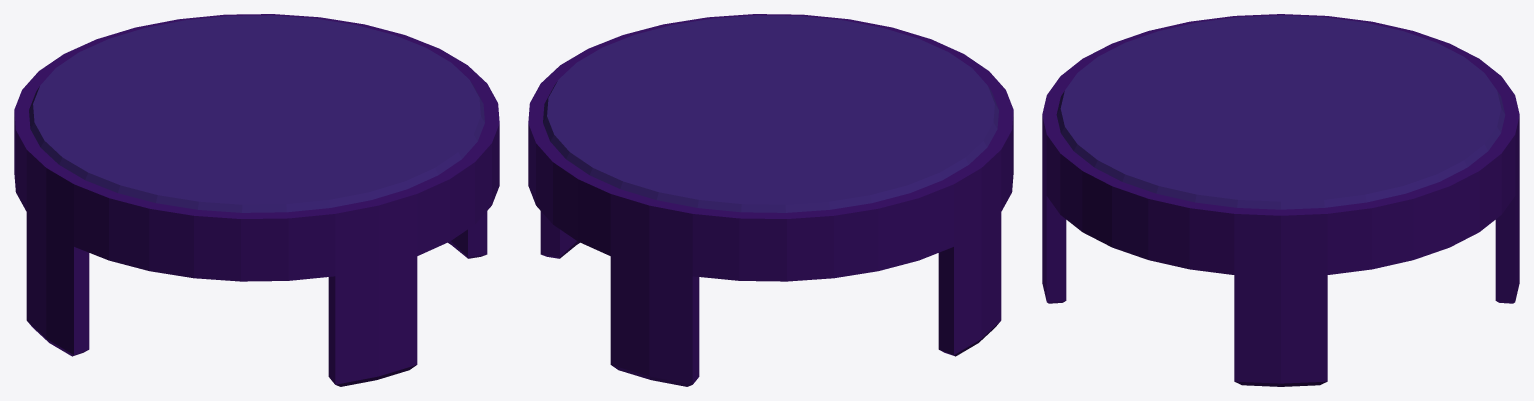
File: trampoline.glb
3 views of the same model, side by side, from view 1: azimuth 30°, elevation 25°; view 2: azimuth 150°, elevation 25°; view 3: azimuth 270°, elevation 25° (orthographic).
Parts seen in each view (by area): view 1: Trampoline-col; view 2: Trampoline-col; view 3: Trampoline-col.
Part boxes in pixels (<box>): Trampoline-col: <box>14,14,499,386</box>; Trampoline-col: <box>528,14,1013,386</box>; Trampoline-col: <box>1042,14,1519,386</box>.
Bounding box in the file's own units: 2 × 0.8269 × 2.
